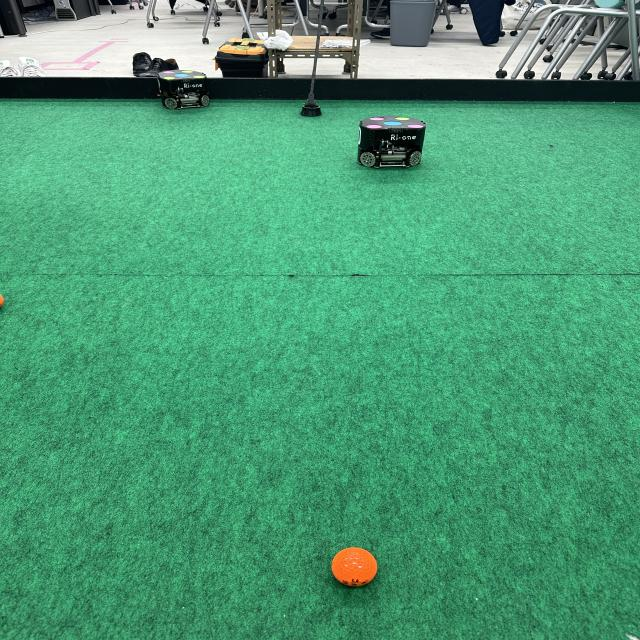ball: (329, 546, 379, 589)
